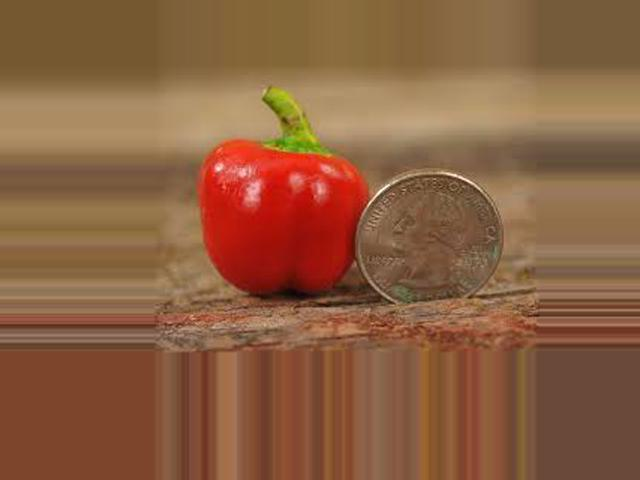bell_pepper: (196, 88, 360, 302)
